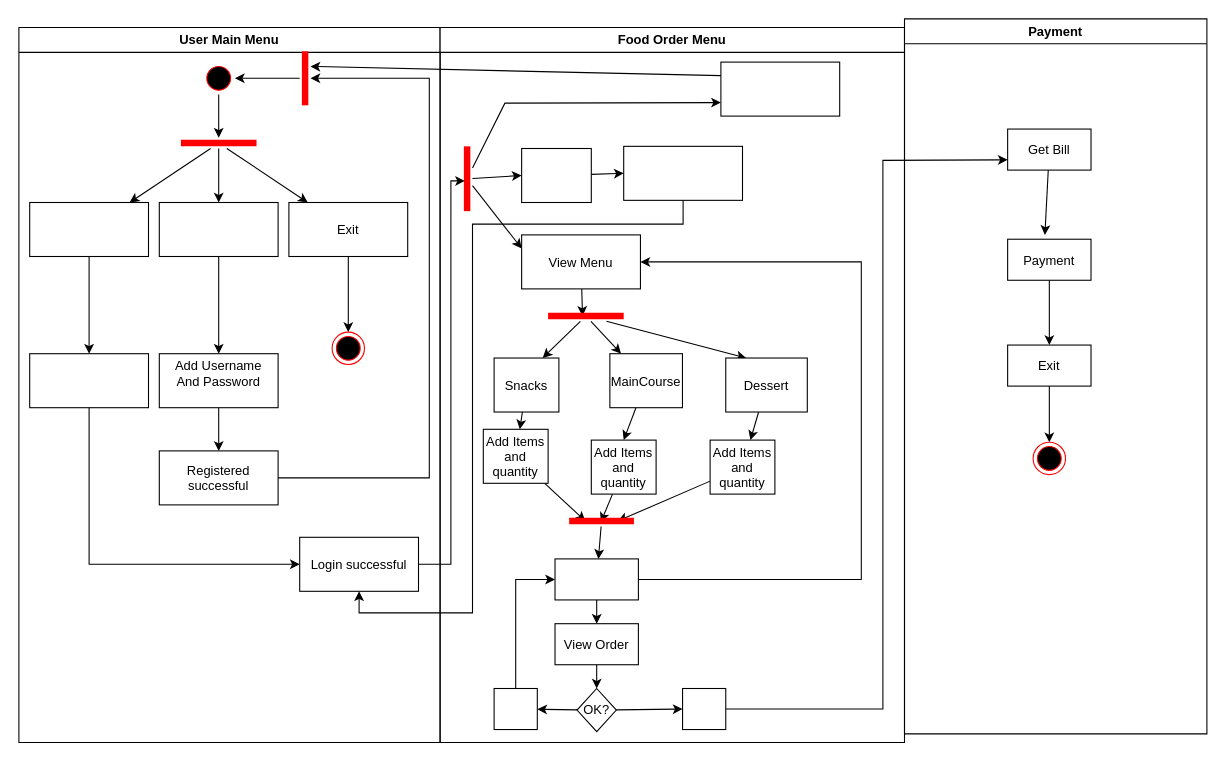
The diagram is 1226 pixels wide and 761 high, and some of its shapes have lost their labels. The centre of each missing label's shape, as x and y in pixels:
"Edit Order" goes at (596,579).
"Enter your username and password" goes at (88,380).
"Log Out" goes at (780,88).
"Login" goes at (88,228).
"New User" goes at (218,228).
"No" goes at (515,708).
"Previous Order Displayed" goes at (682,172).
"View Previous Order" goes at (556,174).
"Yes" goes at (703,708).
